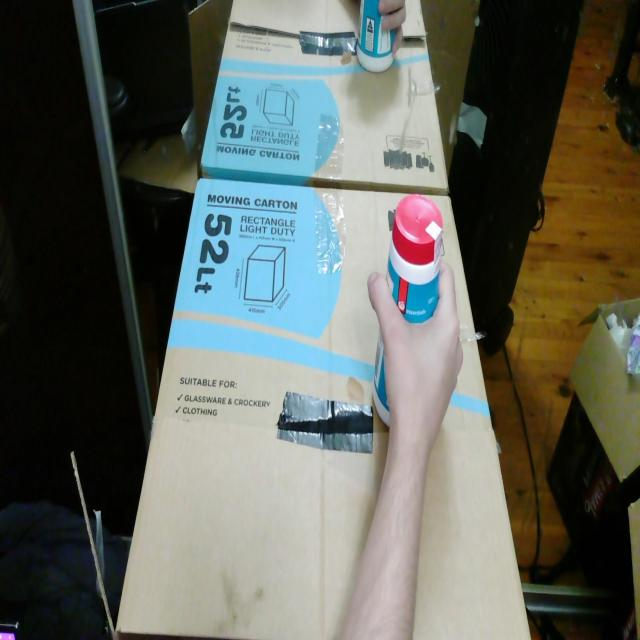woolworths_salt_bottle: (386, 194, 443, 323), (373, 330, 389, 427)
